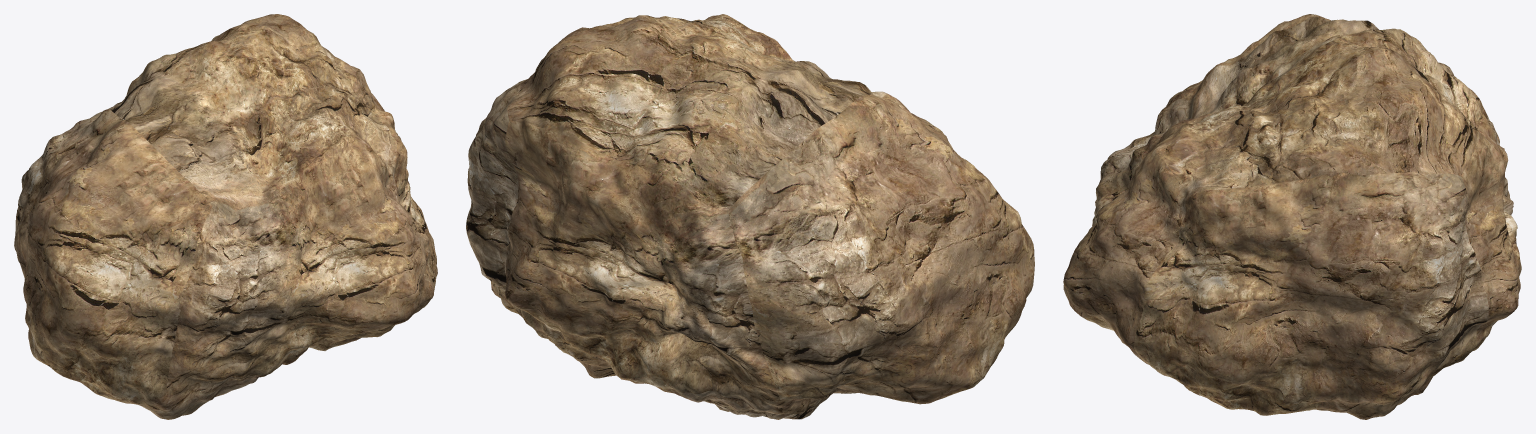
Rendered from Rock3.obj.
3 views of the same model, side by side, from view 1: azimuth 30°, elevation 25°; view 2: azimuth 150°, elevation 25°; view 3: azimuth 270°, elevation 25° (orthographic). The views are drawn at different scales.
Visible parts, largest first — view 1: Cube_002; view 2: Cube_002; view 3: Cube_002.
Part boxes in pixels (x1,y1,x2,y2): Cube_002: [14, 14, 437, 419]; Cube_002: [466, 14, 1034, 419]; Cube_002: [1063, 14, 1521, 419].
Size of the model in its own units: 171 by 126 by 148.
Materials: 1 (1 with a texture image).
